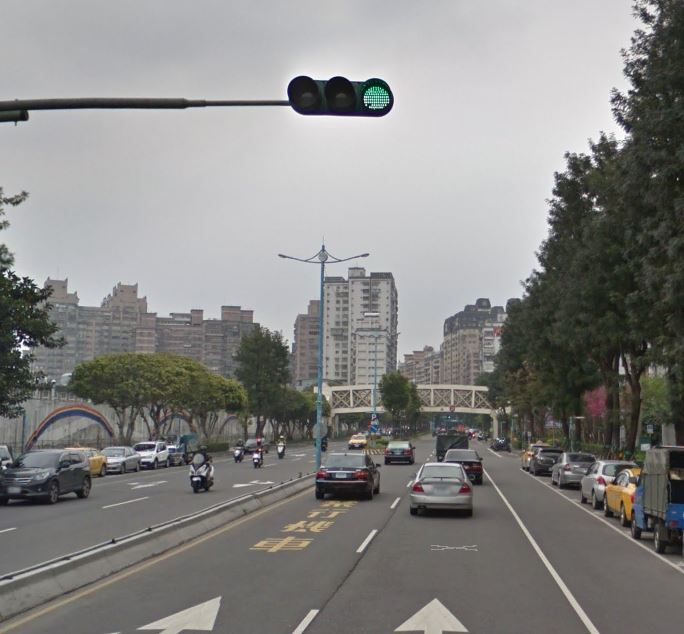Traffic_light_green: (287, 74, 394, 118)
car: (1, 447, 96, 506), (408, 460, 475, 518), (313, 447, 383, 501), (380, 438, 416, 466)
motorcycle: (187, 456, 215, 493)
